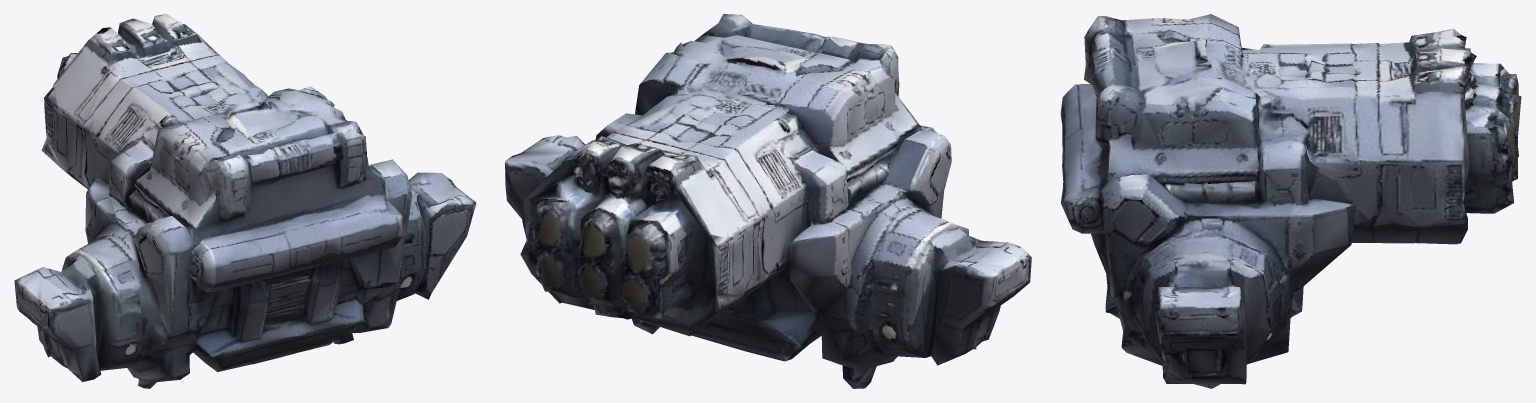
Rendered from wpn_hv_missile_turret.glb.
3 renders of one model, left to right at view 1: azimuth 30°, elevation 25°; view 2: azimuth 150°, elevation 25°; view 3: azimuth 270°, elevation 25°, orthographic. The views are drawn at different scales.
Parts seen in each view (by area): view 1: wpn_hv_missile_turret; view 2: wpn_hv_missile_turret; view 3: wpn_hv_missile_turret.
Part boxes in pixels (bbox=[...]): wpn_hv_missile_turret: bbox=[14, 14, 476, 388]; wpn_hv_missile_turret: bbox=[505, 14, 1031, 388]; wpn_hv_missile_turret: bbox=[1060, 14, 1521, 388].
Size of the model in its own units: 0.4754 by 0.2806 by 0.3956.
1 material, 1 textured.
